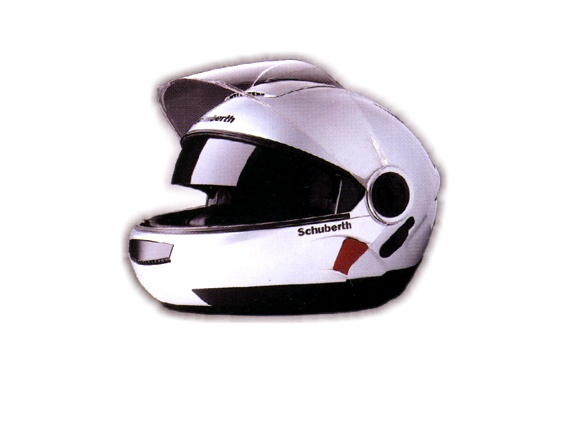helmet: (141, 61, 424, 304)
